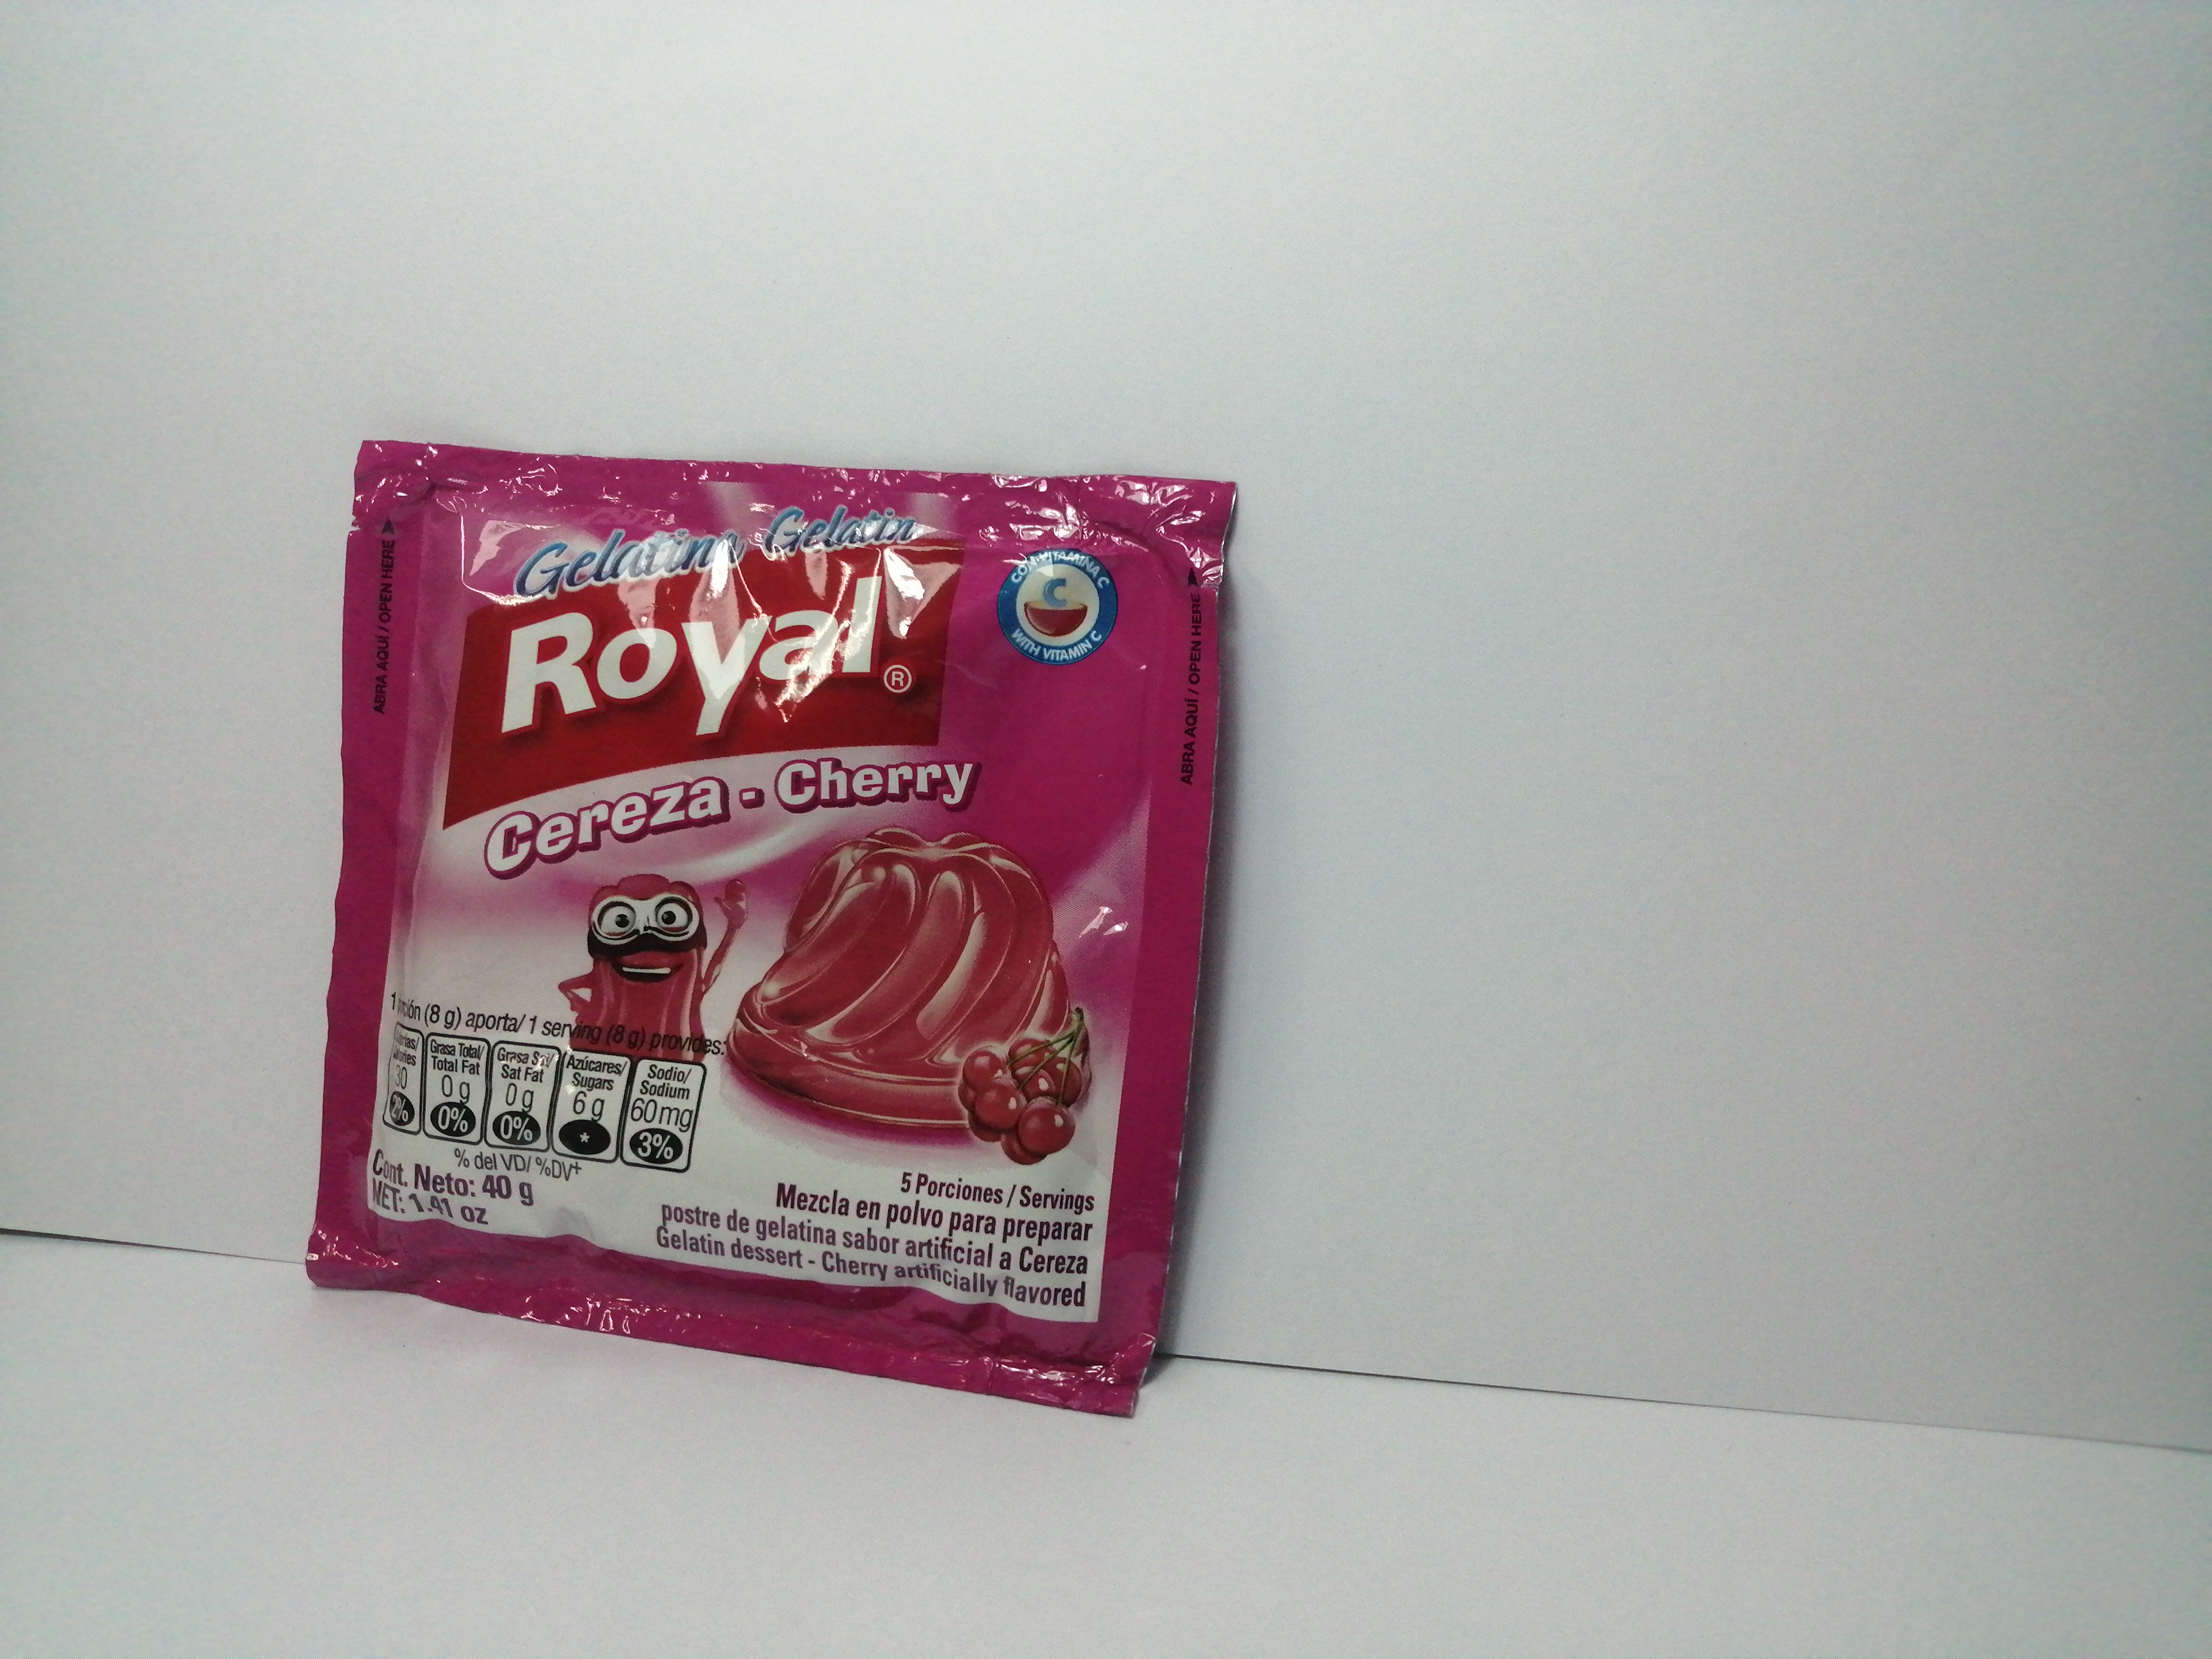gelatina: (312, 439, 1240, 1432)
